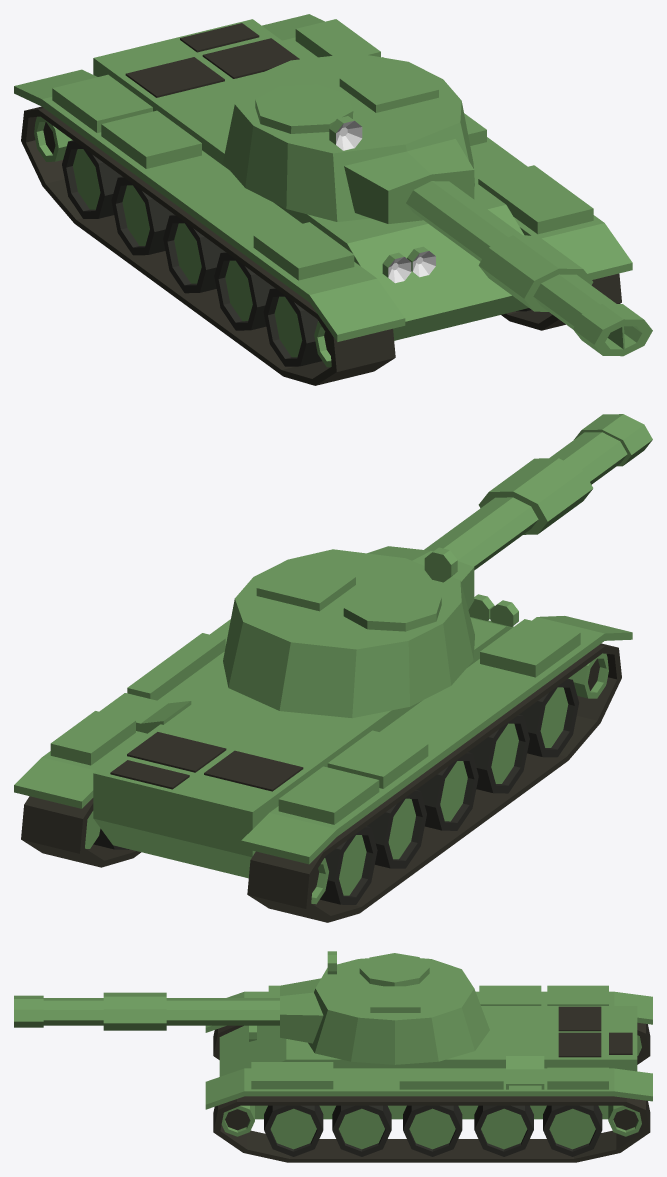
The model's file is doubleBarrelBoss1.fbx.
The picture shows the model from 3 angles, top to bottom: view 1: azimuth 30°, elevation 25°; view 2: azimuth 150°, elevation 25°; view 3: azimuth 270°, elevation 25°; orthographic projection. The views are drawn at different scales.
Visible parts, largest first — view 1: Tank, Treads, Barrel, Turret, Compartments, Box, Grill, BodyLamp, TurretLamp; view 2: Tank, Treads, Turret, Compartments, Barrel, Box, Grill, BodyLamp, TurretLamp; view 3: Treads, Tank, Turret, Barrel, Compartments, Box, Grill.
Part boxes in pixels (x1=…): Tank: x1=14, y1=14, x2=632, y2=341; Treads: x1=21, y1=106, x2=621, y2=385; Barrel: x1=344, y1=139, x2=652, y2=356; Turret: x1=223, y1=53, x2=474, y2=221; Compartments: x1=52, y1=19, x2=593, y2=280; Box: x1=255, y1=63, x2=438, y2=133; Grill: x1=125, y1=23, x2=299, y2=97; BodyLamp: x1=382, y1=246, x2=435, y2=283; TurretLamp: x1=329, y1=116, x2=362, y2=150; Tank: x1=14, y1=616, x2=632, y2=878; Treads: x1=21, y1=643, x2=621, y2=922; Turret: x1=223, y1=549, x2=474, y2=718; Compartments: x1=50, y1=619, x2=580, y2=824; Barrel: x1=367, y1=414, x2=652, y2=609; Box: x1=256, y1=561, x2=441, y2=631; Grill: x1=110, y1=732, x2=303, y2=791; BodyLamp: x1=468, y1=594, x2=518, y2=626; TurretLamp: x1=424, y1=547, x2=457, y2=582; Treads: x1=213, y1=1022, x2=650, y2=1162; Tank: x1=205, y1=991, x2=652, y2=1119; Turret: x1=308, y1=958, x2=489, y2=1064; Barrel: x1=14, y1=978, x2=323, y2=1043; Compartments: x1=251, y1=985, x2=608, y2=1089; Box: x1=359, y1=953, x2=429, y2=1012; Grill: x1=558, y1=1006, x2=632, y2=1057.
Bounding box in the file's own units: 366 × 249 × 992.
